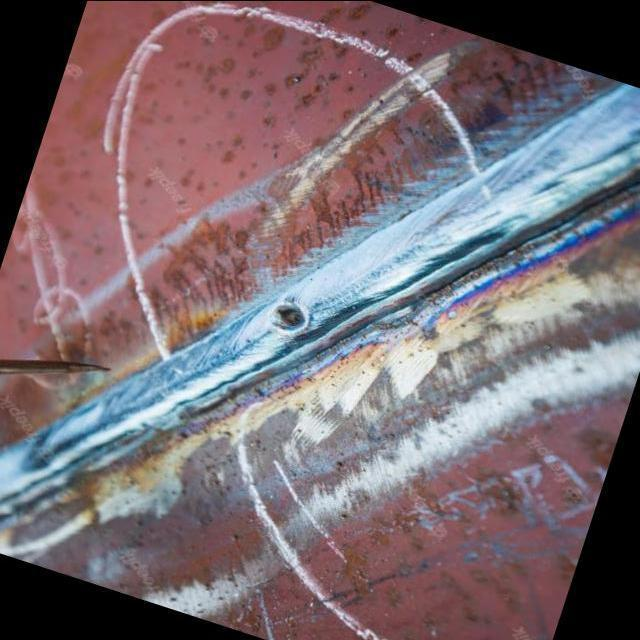defect: (271, 299, 310, 332)
